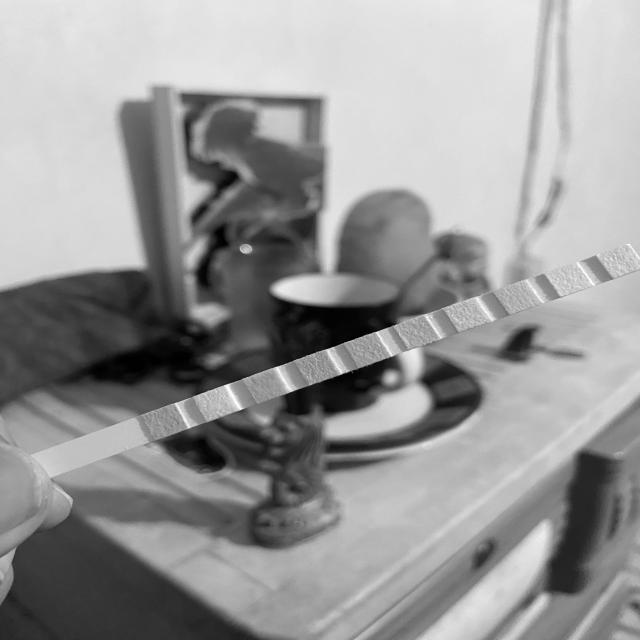Bilirubin: (201, 394, 230, 412)
Blood: (354, 340, 381, 360)
Glucose: (154, 410, 178, 432)
Ketone: (254, 375, 280, 396)
Leukocytes: (606, 251, 635, 270)
Nitrite: (554, 269, 584, 288)
Protein: (455, 304, 481, 325)
SpGravity: (304, 357, 331, 378)
Urobilinogen: (503, 287, 532, 307)
background: (0, 0, 640, 640)
pH: (404, 322, 430, 343)
strip: (30, 244, 640, 477)
